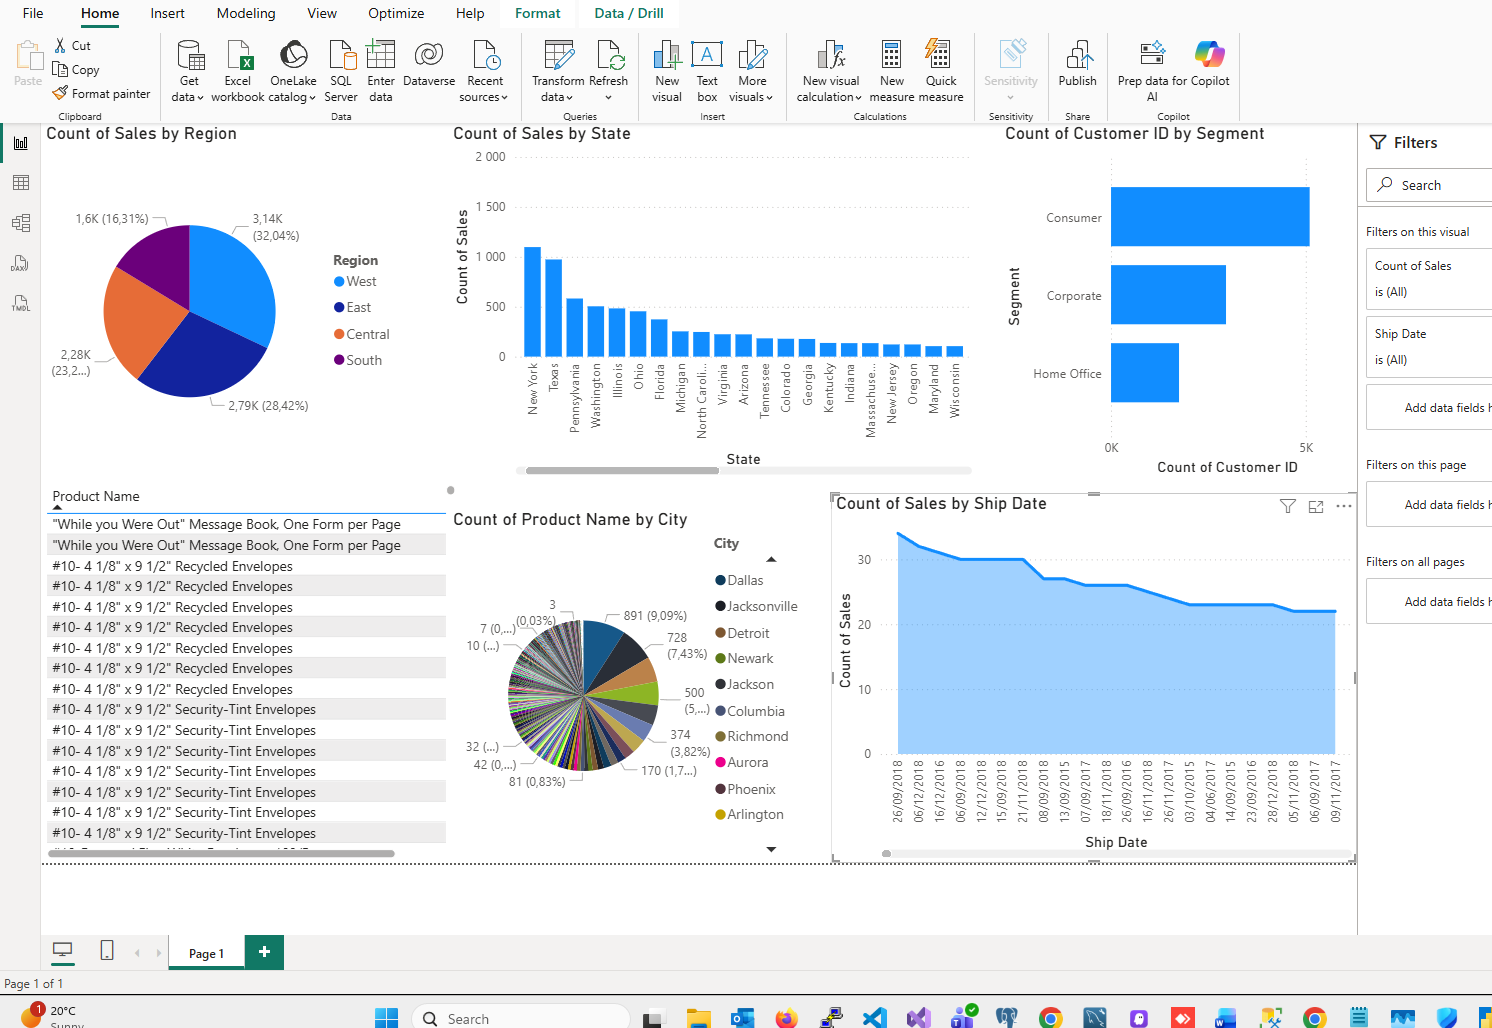

This screenshot's page, from the dashboard's own definition file:
{"tool":"powerbi","page":{"name":"Page 1","canvas":[1280,720],"ordinal":0},"visuals":[{"type":"pieChart","fields":{"Category":["train.Region"],"Y":["CountNonNull(train.Sales)"]},"box":[0,0,354,347.2],"z":0},{"type":"tableEx","fields":{"Values":["train.Product Name","train.Sales"]},"box":[0,347.2,407.5,372.5],"z":1000},{"type":"clusteredColumnChart","fields":{"Category":["train.State"],"Y":["CountNonNull(train.Sales)"]},"box":[395.9,0,514.5,347.2],"z":2000},{"type":"clusteredBarChart","fields":{"Category":["train.Segment"],"Y":["CountNonNull(train.Customer ID)"]},"box":[932.8,0,347.2,347.2],"z":3000},{"type":"areaChart","fields":{"Category":["train.Ship Date"],"Y":["CountNonNull(train.Sales)"]},"box":[768.4,359.9,511.6,359.9],"z":3001},{"type":"pieChart","fields":{"Category":["train.City"],"Y":["CountNonNull(train.Product Name)"]},"box":[395.9,375.4,372.5,344.3],"z":3002}]}

Visuals, with their boxes on the page's 1280x720 design canvas (x1, y1, x2, y2). These are canvas units, not pixel positions in the 1492x1028 screenshot, which may show the page scaled, cropped or inside an application window:
pieChart - train.Region x CountNonNull(train.Sales): 0/0/354/347
tableEx - train.Product Name x train.Sales: 0/347/408/720
clusteredColumnChart - train.State x CountNonNull(train.Sales): 396/0/910/347
clusteredBarChart - train.Segment x CountNonNull(train.Customer ID): 933/0/1280/347
areaChart - train.Ship Date x CountNonNull(train.Sales): 768/360/1280/720
pieChart - train.City x CountNonNull(train.Product Name): 396/375/768/720
